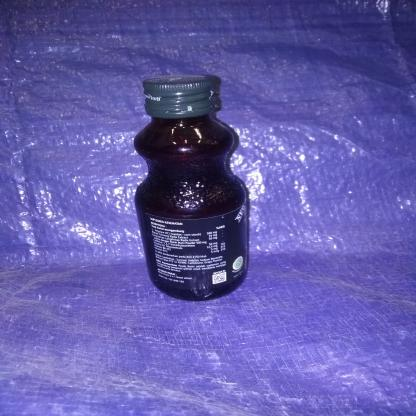bottle: (129, 69, 254, 303)
